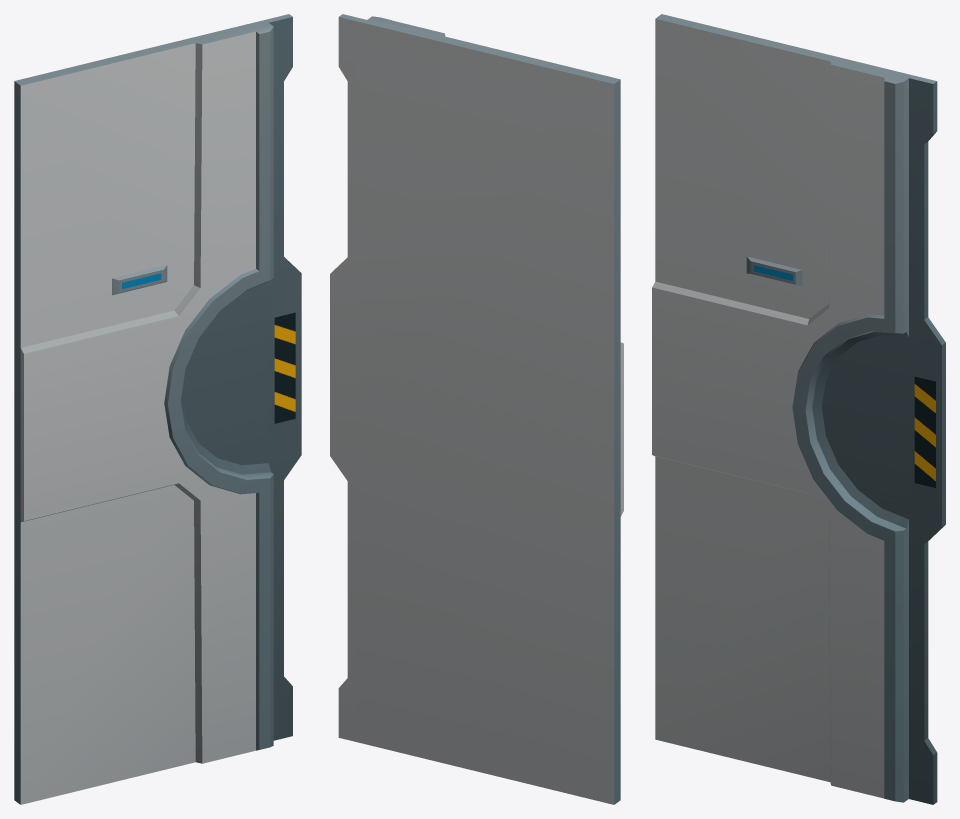
Rendered from Door_panel_004.fbx.
The picture shows the model from 3 angles, left to right: view 1: azimuth 30°, elevation 25°; view 2: azimuth 150°, elevation 25°; view 3: azimuth 330°, elevation 25°; orthographic projection.
Visible parts, largest first — view 1: Door_panel_004; view 2: Door_panel_004; view 3: Door_panel_004.
Part boxes in pixels (x1,y1,x2,y2): Door_panel_004: (14,14,301,804); Door_panel_004: (330,14,623,804); Door_panel_004: (652,14,945,804).
Size of the model in its own units: 134 by 9.43 by 325.
